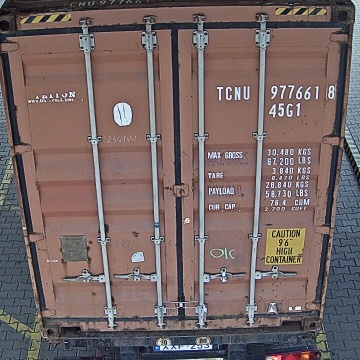serial_id: (217, 84, 336, 100)
